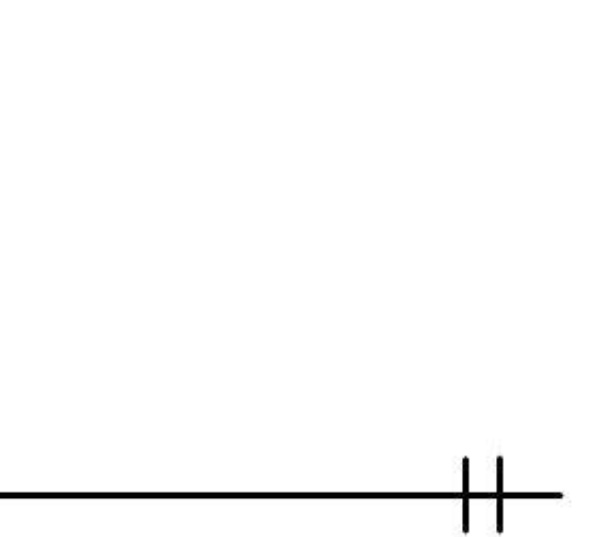115_buffer: (462, 455, 504, 535)
